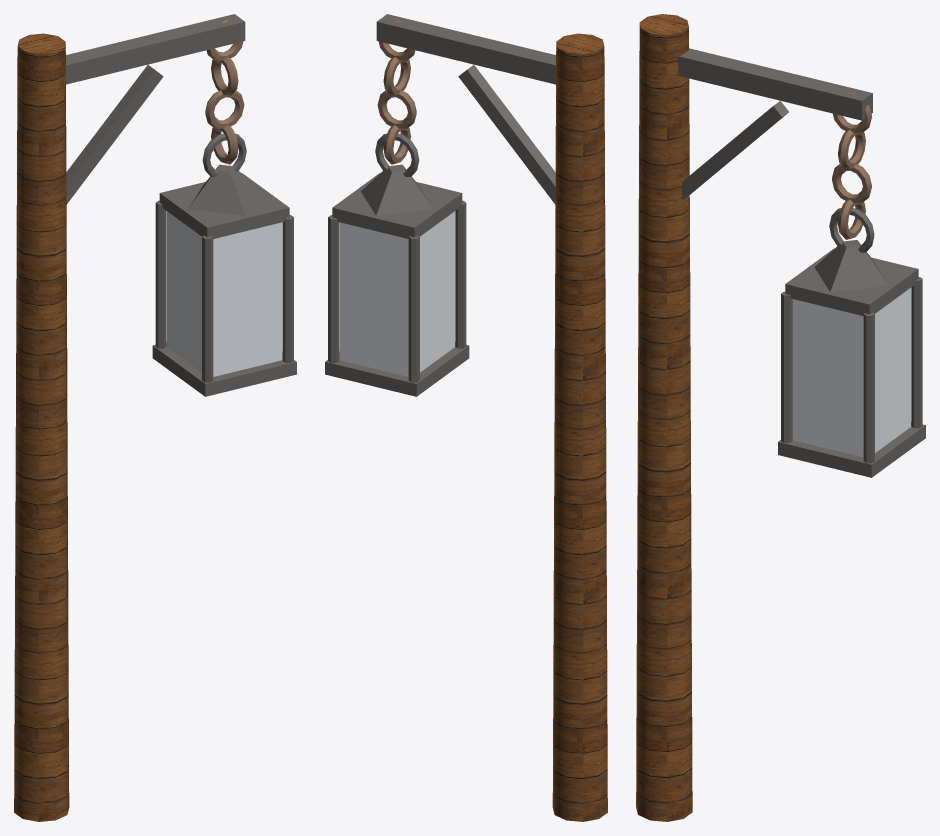
The model's file is hanging-lantern-v01.glb.
3 renders of one model, left to right at view 1: azimuth 30°, elevation 25°; view 2: azimuth 150°, elevation 25°; view 3: azimuth 330°, elevation 25°, orthographic. The views are drawn at different scales.
Parts seen in each view (by area): view 1: hanging-lantern; view 2: hanging-lantern; view 3: hanging-lantern.
Boxes of the visible parts, x1,y1,x2,y2 form: hanging-lantern: (14, 14, 296, 821); hanging-lantern: (325, 14, 607, 821); hanging-lantern: (636, 14, 925, 821).
Size of the model in its own units: 0.8261 by 2.4 by 0.3.
Materials: 4 (1 with a texture image).
